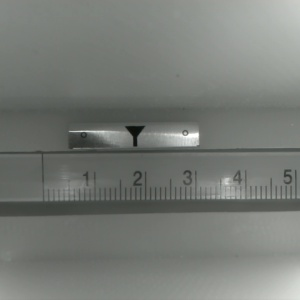1: (82, 172, 88, 186)
2: (132, 170, 142, 186)
3: (182, 170, 191, 185)
4: (230, 171, 240, 185)
5: (282, 168, 292, 185)
finger: (123, 126, 145, 147)
